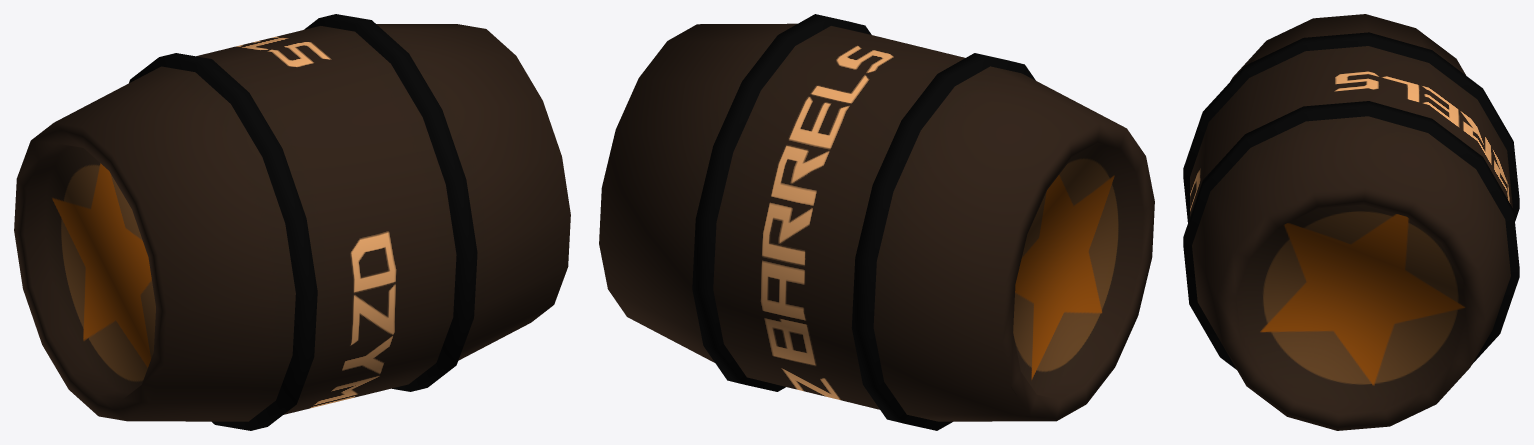
Rendered from Barrel.fbx.
3 views of the same model, side by side, from view 1: azimuth 30°, elevation 25°; view 2: azimuth 150°, elevation 25°; view 3: azimuth 270°, elevation 25° (orthographic). The views are drawn at different scales.
Visible parts, largest first — view 1: BARREL; view 2: BARREL; view 3: BARREL.
Part boxes in pixels (left/top/right/bottom): BARREL: left=14, top=14, right=570, bottom=430; BARREL: left=599, top=14, right=1154, bottom=430; BARREL: left=1183, top=14, right=1519, bottom=430.
Size of the model in its own units: 3.03 by 2.49 by 2.49.
